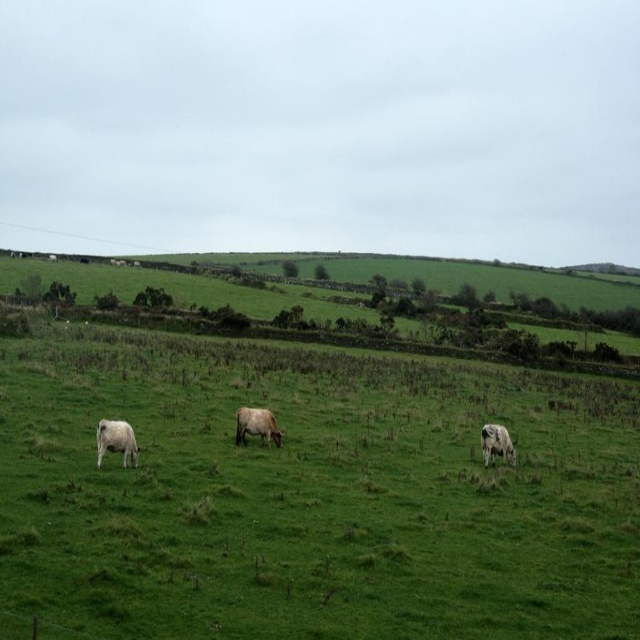Sheep: (476, 419, 519, 480)
